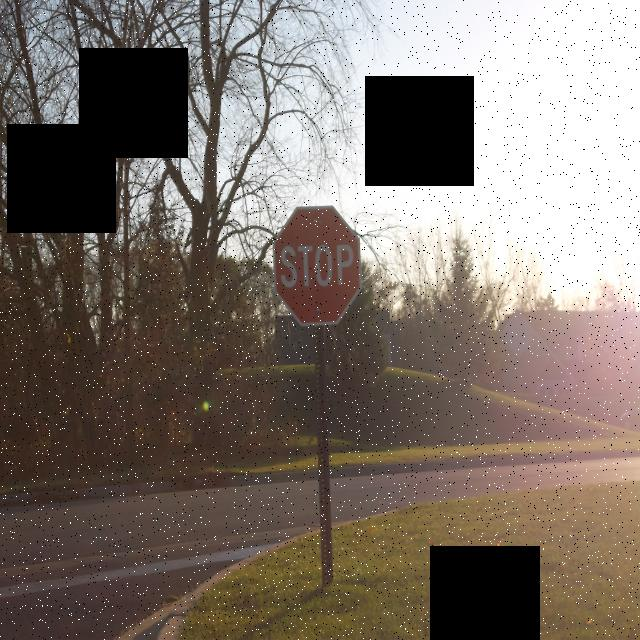stop: (270, 200, 366, 328)
